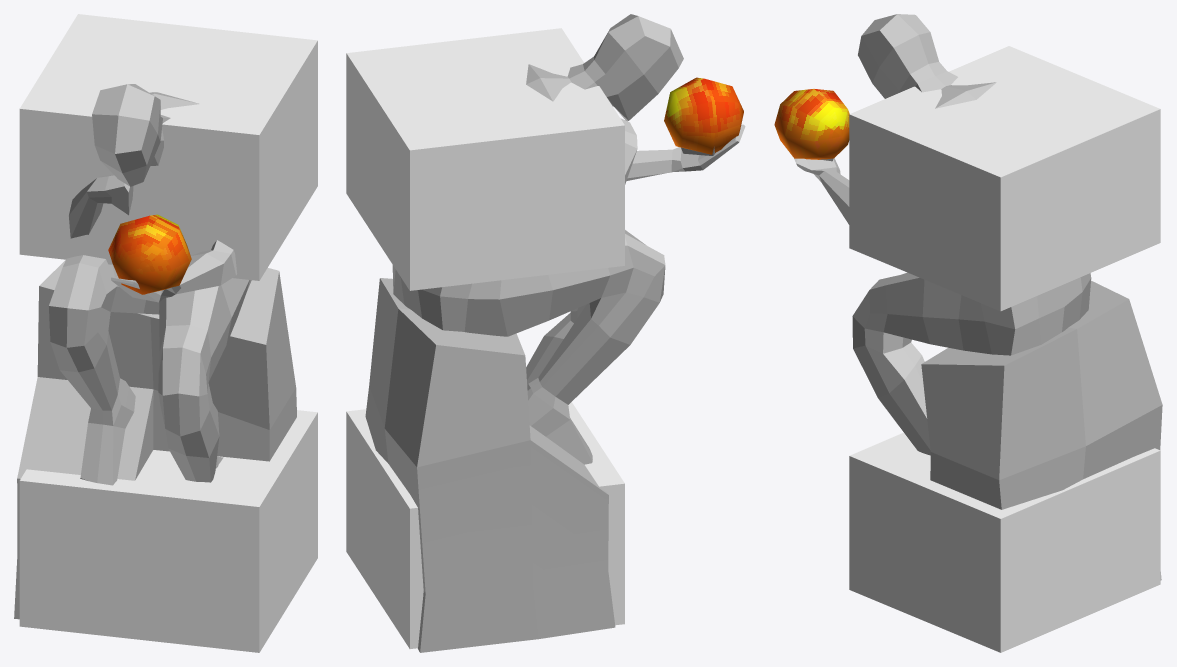
File: Statue (1).fbx
3 renders of one model, left to right at view 1: azimuth 30°, elevation 25°; view 2: azimuth 150°, elevation 25°; view 3: azimuth 270°, elevation 25°, orthographic. The views are drawn at different scales.
Parts seen in each view (by area): view 1: Statue (1), Cube, Cube (1), Sphere_8; view 2: Statue (1), Cube, Cube (1), Sphere_8; view 3: Cube, Statue (1), Cube (1), Sphere_8.
Part boxes in pixels (x1,y1,x2,y2): Statue (1): (14, 84, 296, 619); Cube: (19, 14, 317, 280); Cube (1): (19, 410, 317, 652); Sphere_8: (108, 214, 191, 294); Statue (1): (365, 14, 745, 652); Cube: (346, 28, 624, 290); Cube (1): (346, 402, 624, 648); Sphere_8: (664, 77, 743, 154); Cube: (849, 46, 1160, 311); Statue (1): (794, 14, 1162, 580); Cube (1): (849, 432, 1160, 652); Sphere_8: (774, 89, 849, 159).
Bounding box in the file's own units: 4.41 × 7.9 × 5.25.
